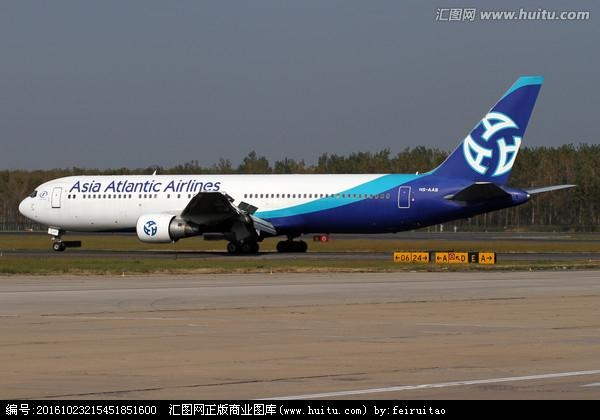airplane: (19, 74, 552, 260)
